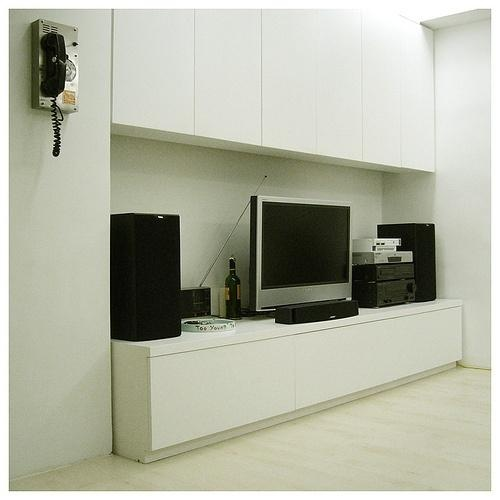tvmonitor: (248, 197, 355, 316)
